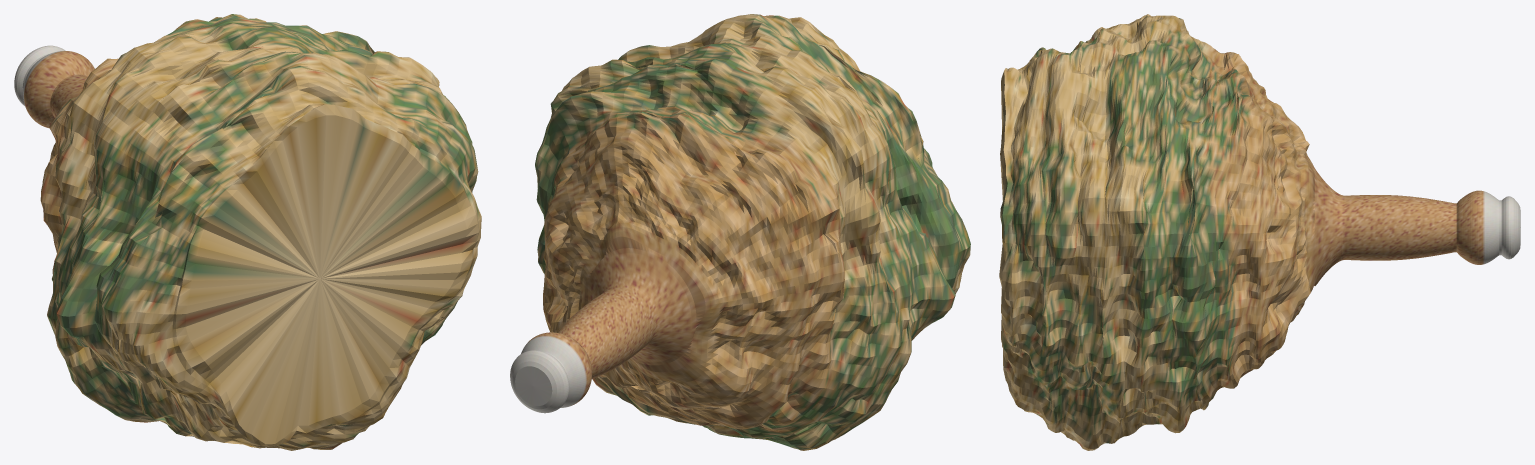
Rendered from curry_crunch.glb.
The picture shows the model from 3 angles, left to right: view 1: azimuth 30°, elevation 25°; view 2: azimuth 150°, elevation 25°; view 3: azimuth 270°, elevation 25°; orthographic projection. The views are drawn at different scales.
Parts seen in each view (by area): view 1: world; view 2: world; view 3: world.
Part boxes in pixels (x1=…): world: x1=14, y1=14, x2=481, y2=450; world: x1=510, y1=14, x2=970, y2=450; world: x1=999, y1=14, x2=1520, y2=450.
Bounding box in the file's own units: 0.122 × 0.1185 × 0.15.
